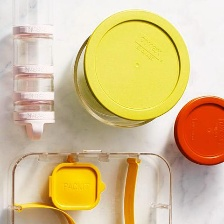plastic_box: (64, 4, 195, 134), (167, 89, 223, 169)
